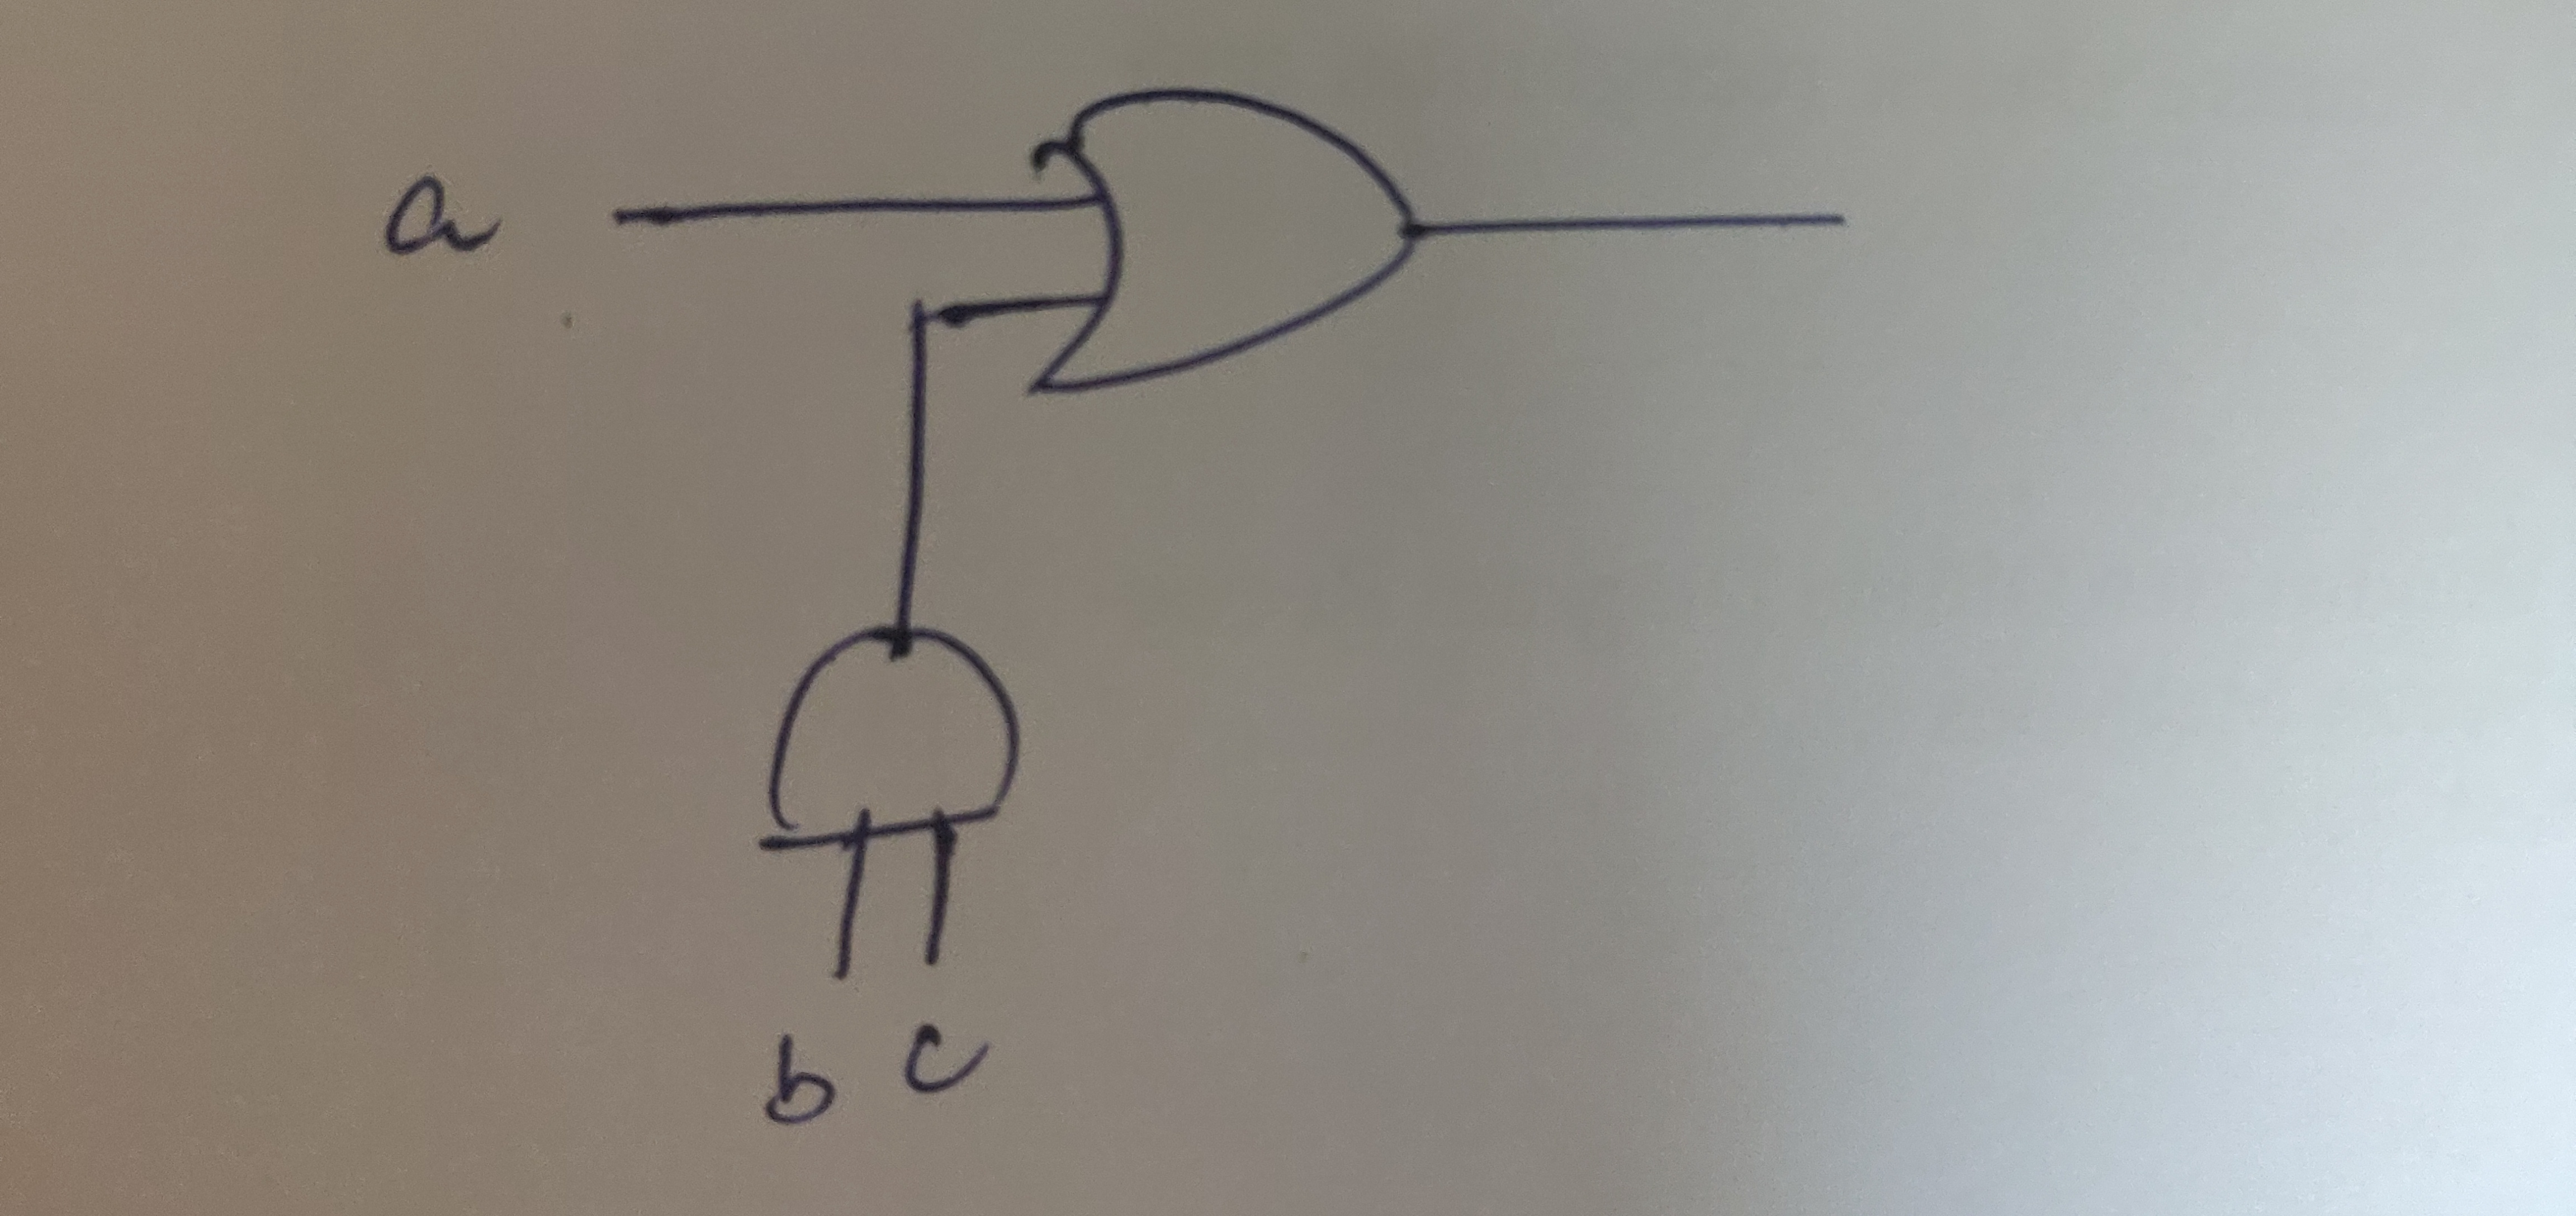and: (726, 578, 1065, 891)
or: (992, 53, 1475, 460)
